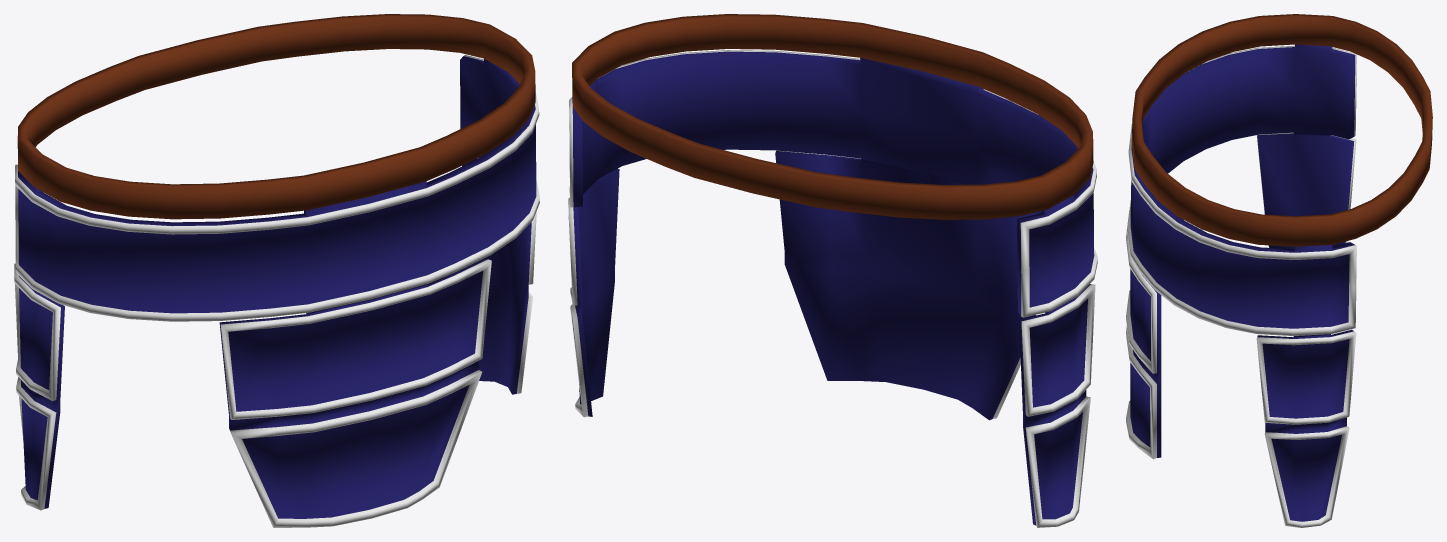
The model's file is mallar.fbx.
The picture shows the model from 3 angles, left to right: view 1: azimuth 30°, elevation 25°; view 2: azimuth 150°, elevation 25°; view 3: azimuth 270°, elevation 25°; orthographic projection. The views are drawn at different scales.
Parts seen in each view (by area): view 1: metal, Cinturon; view 2: metal, Cinturon; view 3: metal, Cinturon.
Boxes of the visible parts, box(x1,y1,x2,y2) form: metal: box(14, 55, 539, 527); Cinturon: box(17, 14, 535, 219); metal: box(568, 50, 1097, 527); Cinturon: box(572, 14, 1093, 219); metal: box(1126, 44, 1356, 527); Cinturon: box(1131, 14, 1432, 246).
Size of the model in its own units: 152 by 104 by 93.83.
